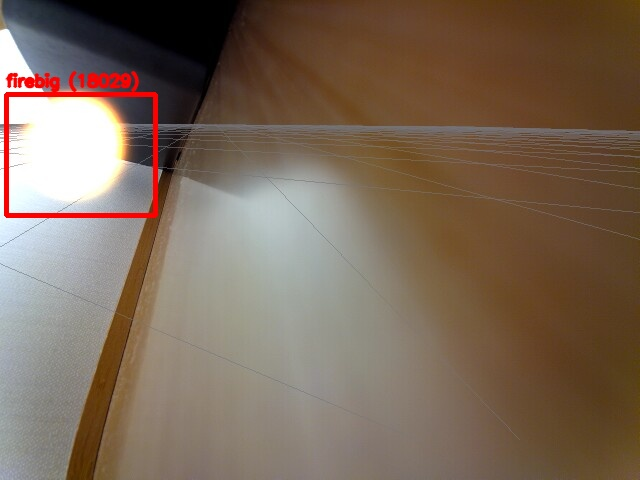firebig: (6, 94, 155, 215)
